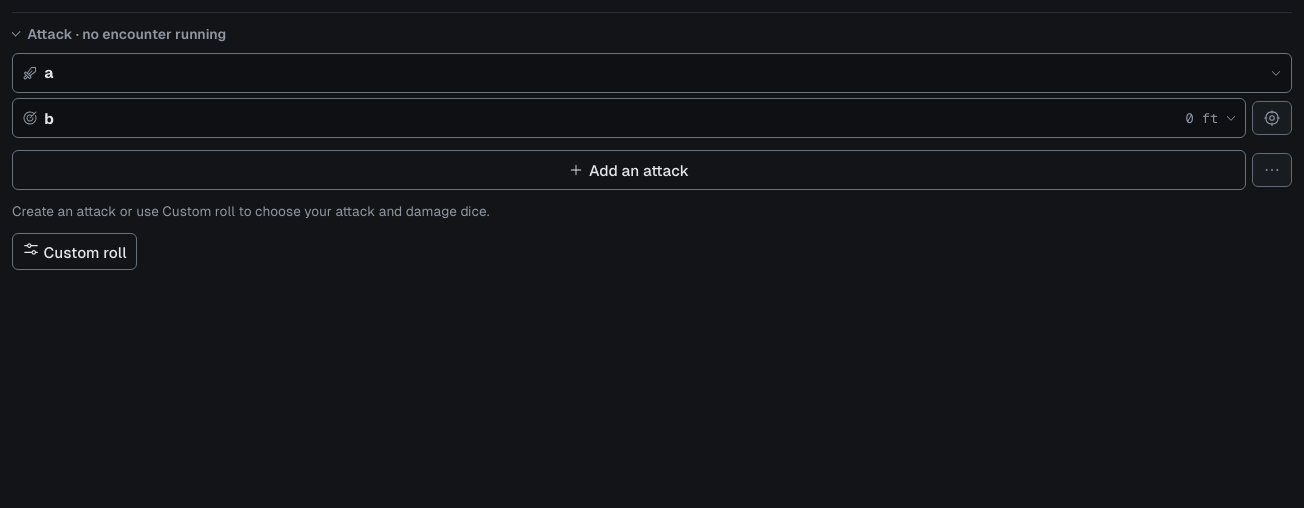
it: Automatic attack style (FR-TAC-09, ADR 0038) › lets players configure a custom roll while dice are rolling, but waits to roll again
Click the button "Custom roll": [74, 251] box [12,233,136,270]
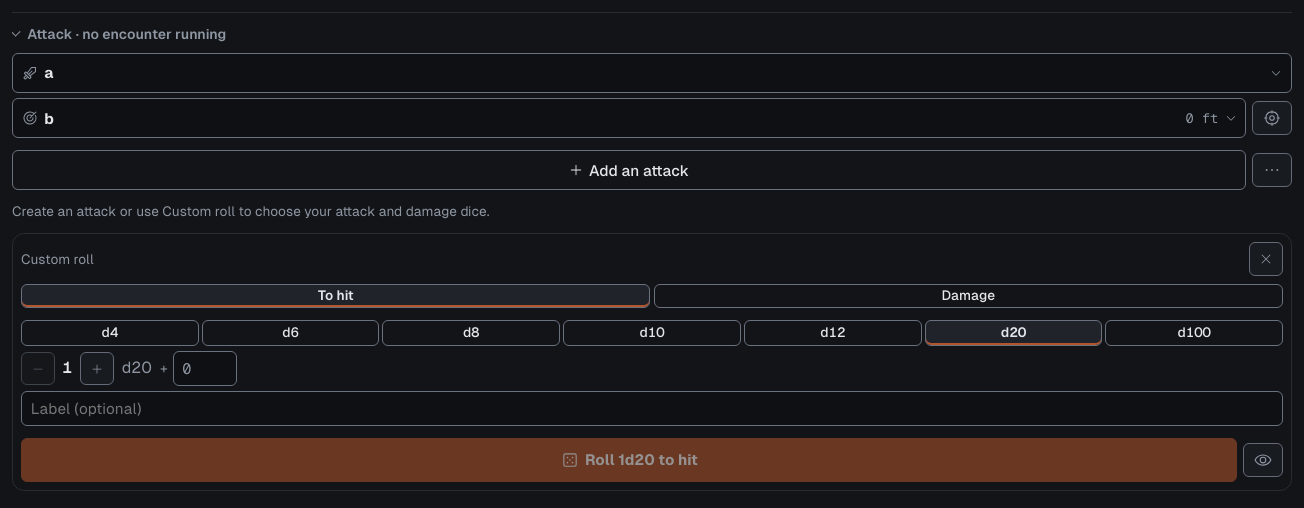
Check: the button "Roll 1d20 to hit" is disabled, box [21,438,1237,482]
